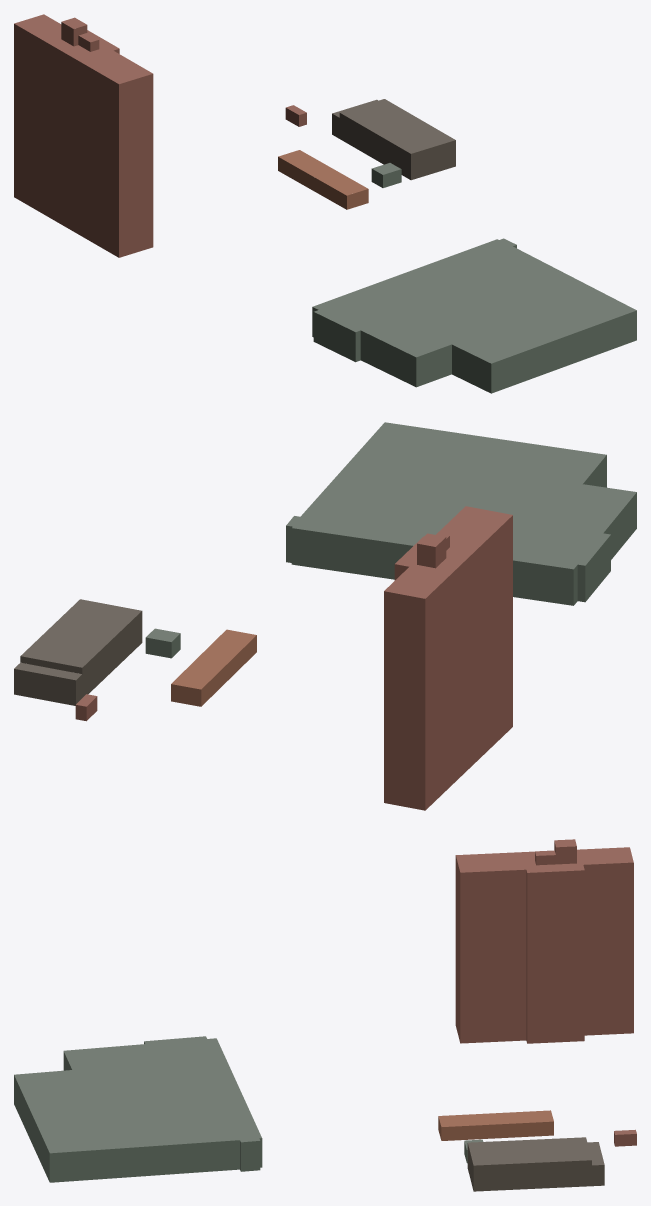
The model's file is tile-2_11.glb.
3 renders of one model, top to bottom at view 1: azimuth 30°, elevation 25°; view 2: azimuth 150°, elevation 25°; view 3: azimuth 270°, elevation 25°, orthographic. The views are drawn at different scales.
Parts seen in each view (by area): view 1: wall, roof; view 2: wall, roof; view 3: wall, roof.
Boxes of the visible parts, <box> form: wall: <box>14,22,636,393</box>; roof: <box>14,14,636,363</box>; wall: <box>14,455,636,810</box>; roof: <box>14,422,636,706</box>; wall: <box>14,841,636,1191</box>; roof: <box>14,839,636,1165</box>.
Size of the model in its own units: 119 by 62.38 by 180.
